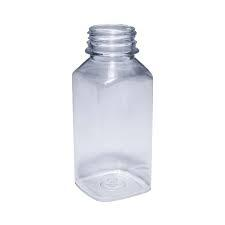Container for household chemicals: (64, 22, 165, 201)
